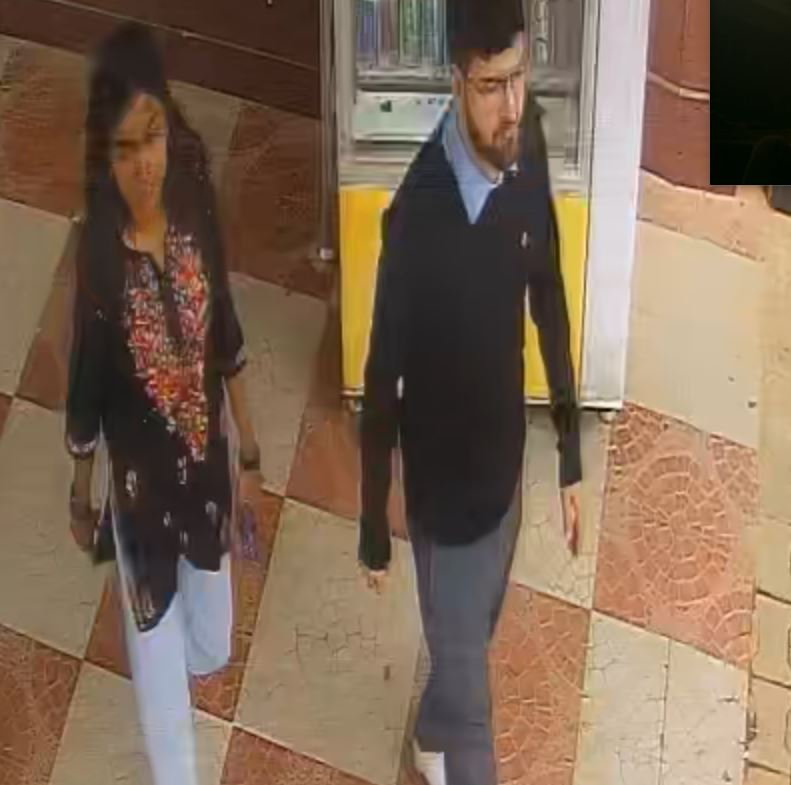intruder: (343, 1, 587, 785), (55, 42, 271, 785)
